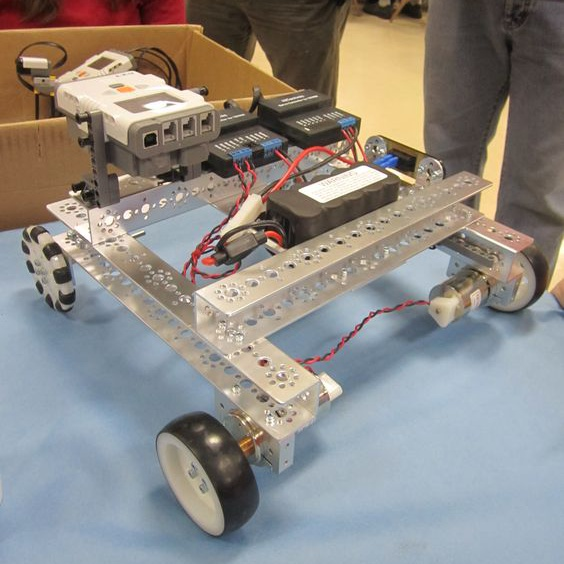robot: (21, 69, 552, 542)
